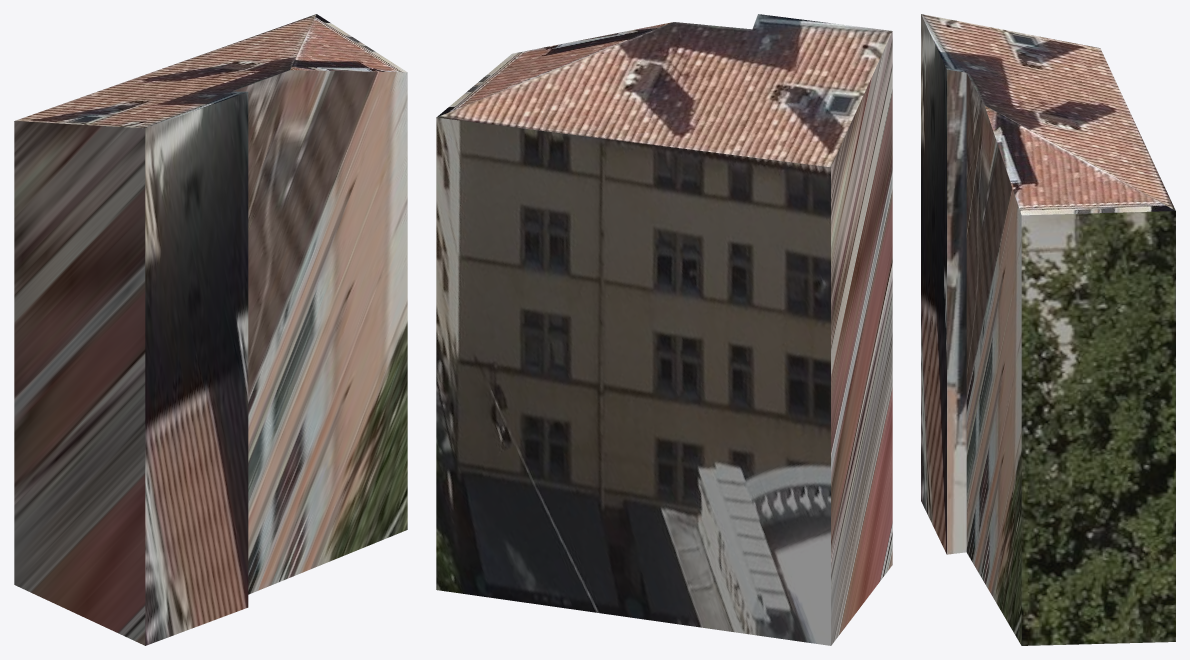
3 renders of one model, left to right at view 1: azimuth 30°, elevation 25°; view 2: azimuth 150°, elevation 25°; view 3: azimuth 270°, elevation 25°, orthographic. The views are drawn at different scales.
Parts seen in each view (by area): view 1: Z_UP; view 2: Z_UP; view 3: Z_UP.
Part boxes in pixels (x1=…): Z_UP: x1=14, y1=14, x2=407, y2=645; Z_UP: x1=436, y1=14, x2=892, y2=645; Z_UP: x1=921, y1=14, x2=1175, y2=645.
Size of the model in its own units: 13.83 by 19.48 by 9.24.
Materials: 2 (1 with a texture image).
